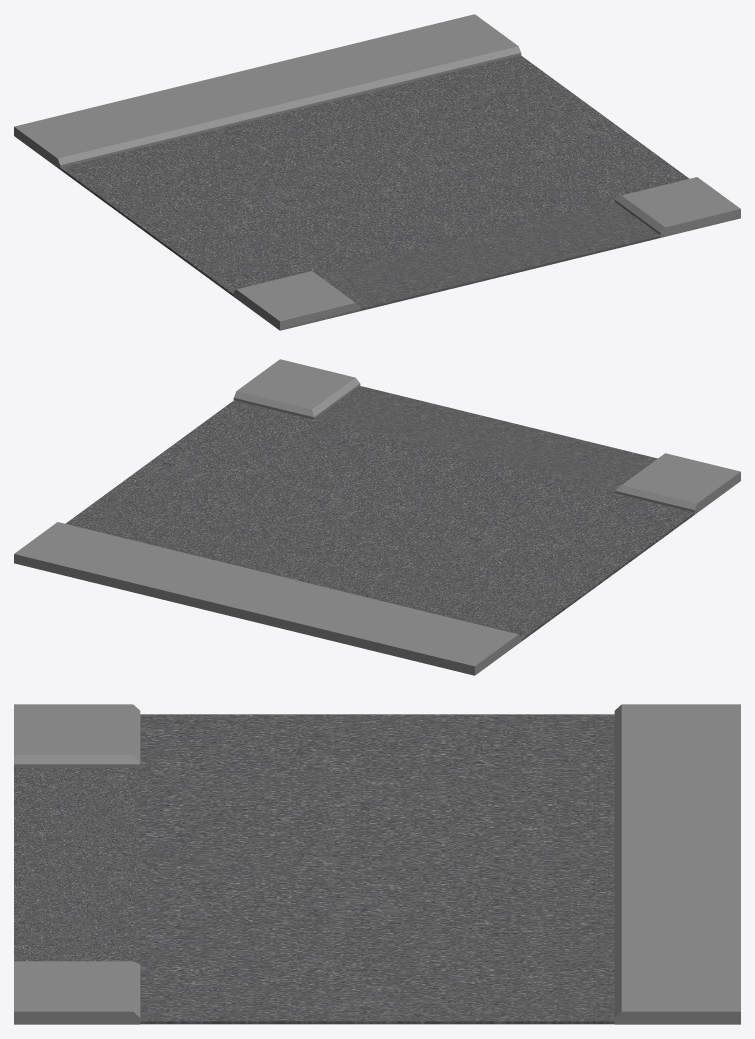
File: obj_rode_2.fbx
3 renders of one model, top to bottom at view 1: azimuth 30°, elevation 25°; view 2: azimuth 150°, elevation 25°; view 3: azimuth 270°, elevation 25°, orthographic. The views are drawn at different scales.
Visible parts, largest first — view 1: obj_rode_2; view 2: obj_rode_2; view 3: obj_rode_2.
Part boxes in pixels (<box>): obj_rode_2: <box>14,14,740,330</box>; obj_rode_2: <box>14,359,740,675</box>; obj_rode_2: <box>14,704,740,1024</box>.
Bounding box in the file's own units: 14.15 × 0.2756 × 14.15.
Materials: 1 (1 with a texture image).
